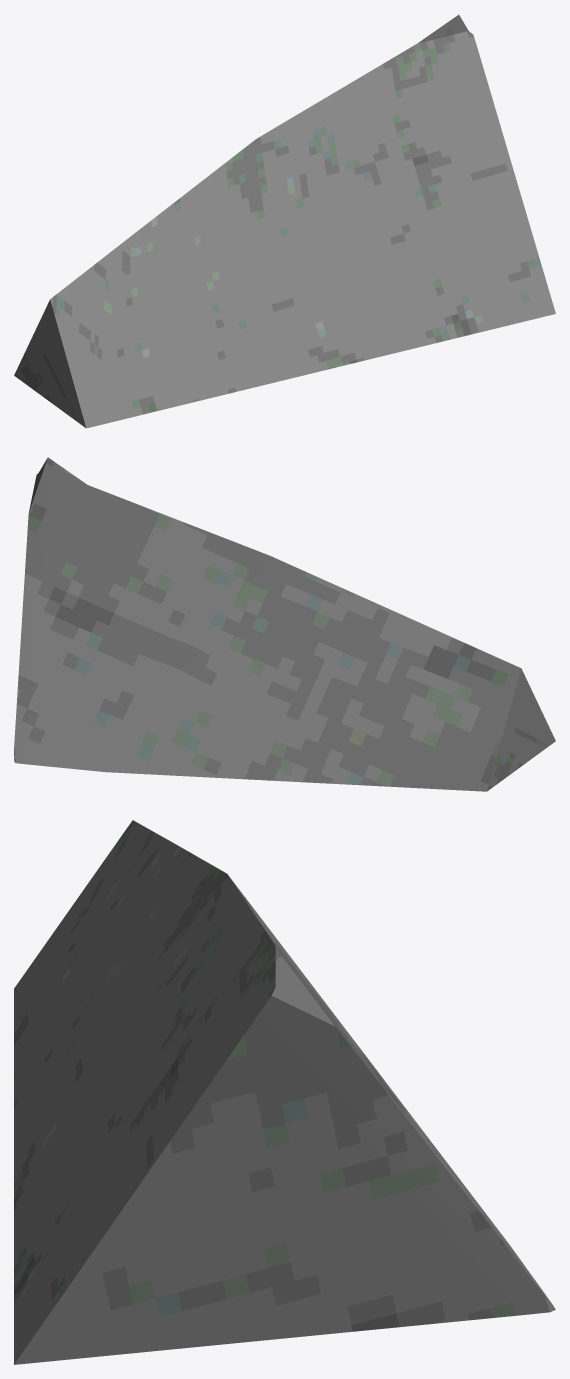
File: barriar_cell_005.glb
3 renders of one model, top to bottom at view 1: azimuth 30°, elevation 25°; view 2: azimuth 150°, elevation 25°; view 3: azimuth 270°, elevation 25°, orthographic. The views are drawn at different scales.
Visible parts, largest first — view 1: Barriar_cell.005; view 2: Barriar_cell.005; view 3: Barriar_cell.005.
Part boxes in pixels (box(x1,y1,x2,y2)): Barriar_cell.005: box(14, 14, 555, 428); Barriar_cell.005: box(14, 457, 555, 791); Barriar_cell.005: box(14, 820, 555, 1364).
Size of the model in its own units: 1.06 by 0.5275 by 0.6434.
1 material, 1 textured.
